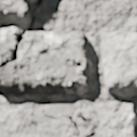brick: (0, 101, 136, 136), (102, 31, 136, 96)
broken_brick: (0, 26, 92, 97), (0, 0, 29, 26)
crack: (2, 0, 134, 67)
